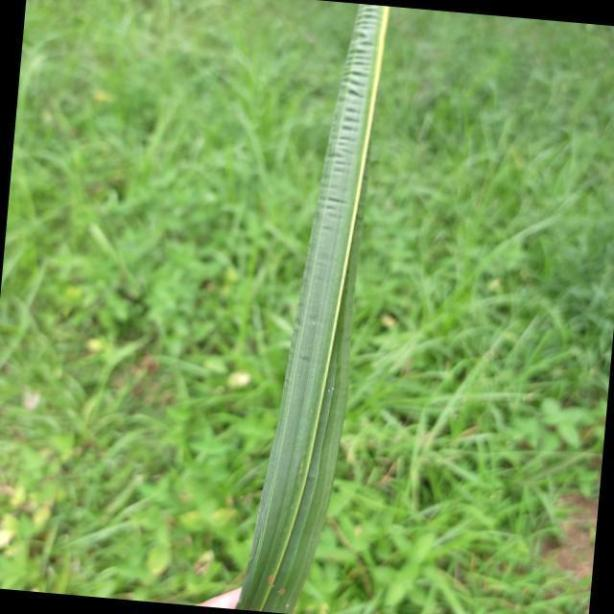Boron: (232, 5, 408, 614)
